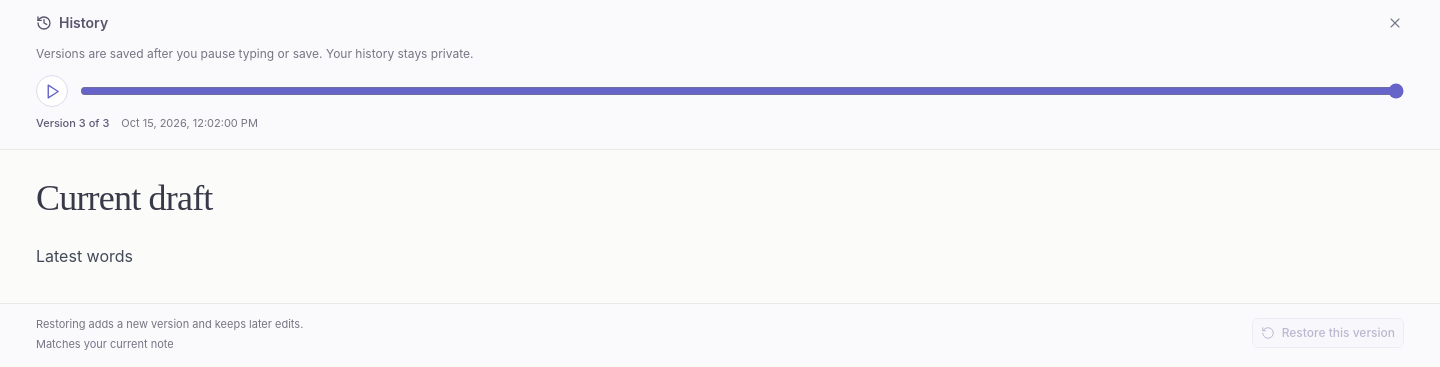
Test case: note history › shows read failures and pauses playback without rendering a stale preview
The width and height of the screenshot is (1440, 367).
Click the button named "Play history" at (52, 91), box [36,75,68,107]
Wait 800 ms
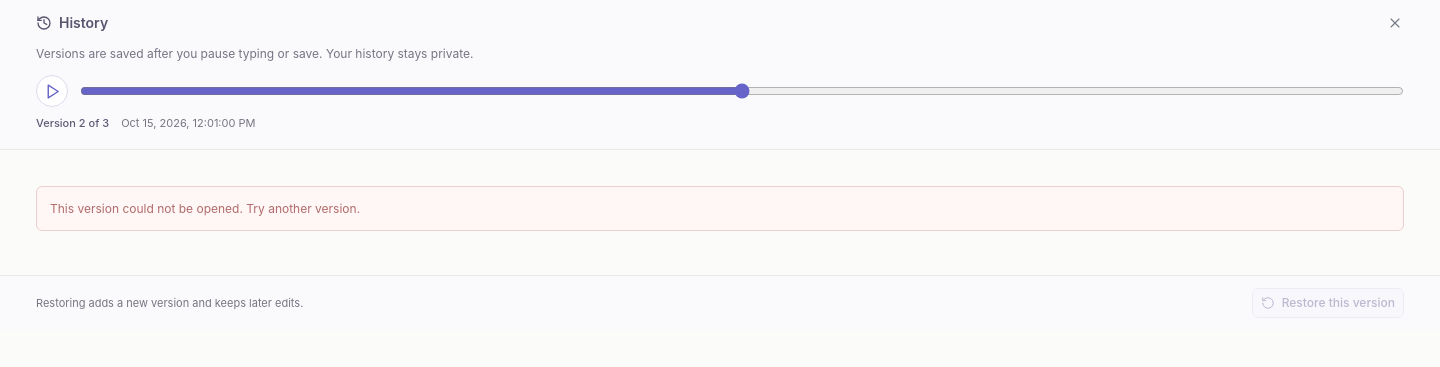
Check: the button "Restore this version" is disabled, box [1252,288,1404,318]
Check: the message shows "This version could not be opened", box [50,201,360,216]
Set the slider named "Version timeline" to "2" at (1396, 91), box [80,77,1404,105]
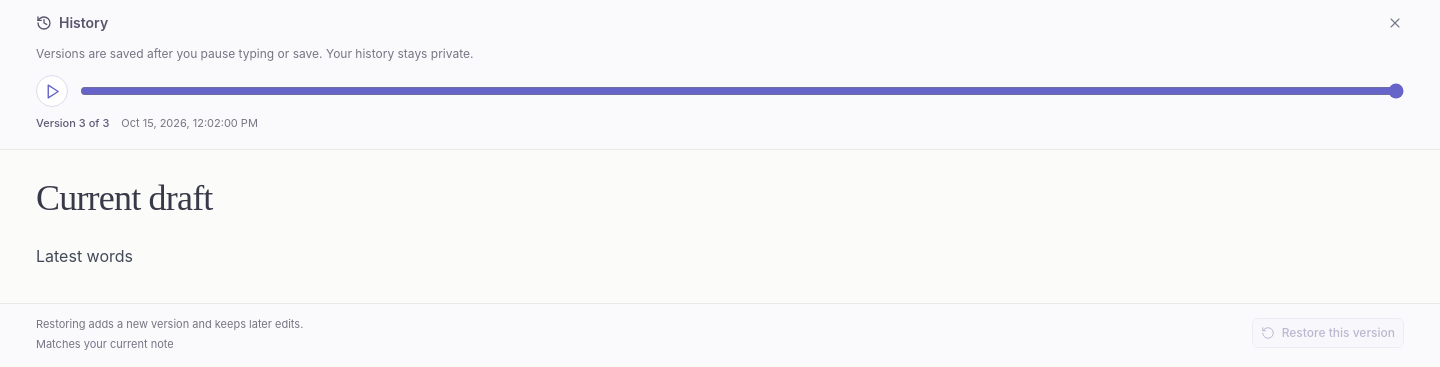
Check: the message "This version could not be opened. Try another version." is gone
Check: the heading "Current draft" is shown, box [36,178,212,218]
